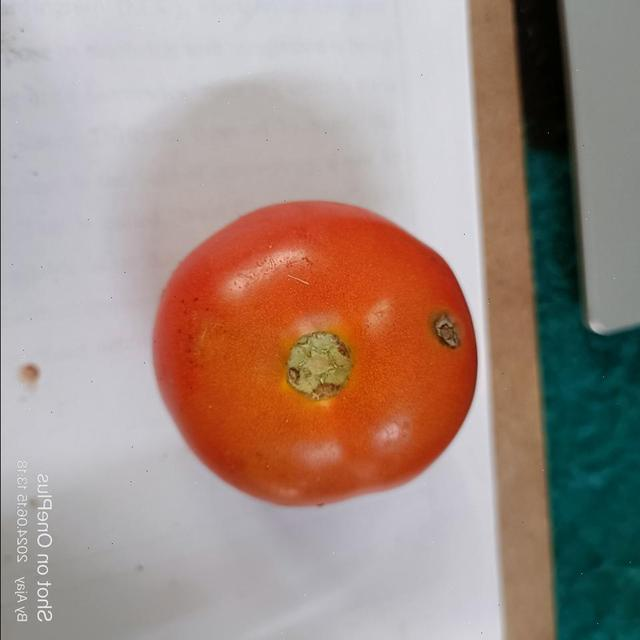Bacterial Spot Fruit: (20, 25, 298, 245)
